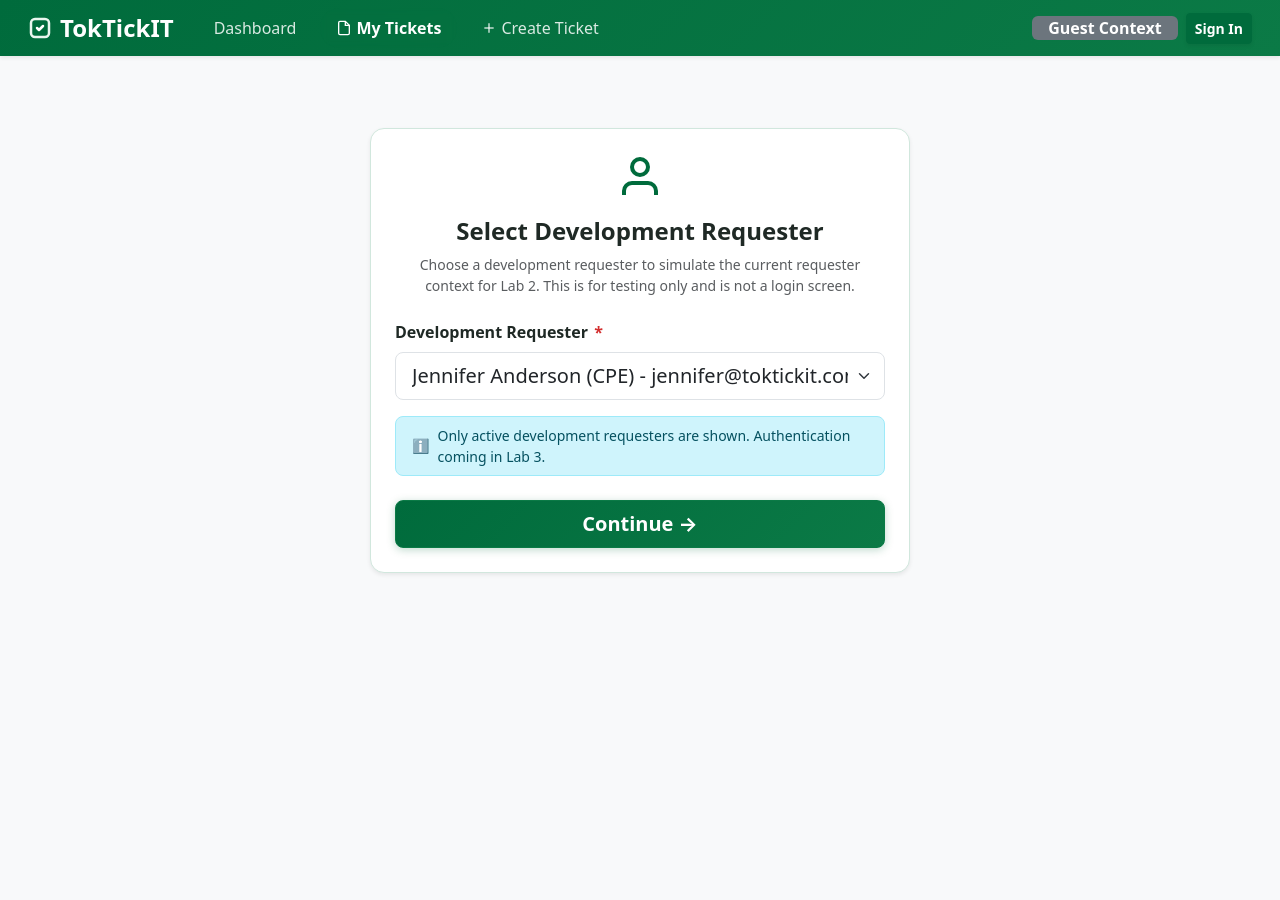
Lab 3 E2E Client Application Integration › should authenticate user and render role navigation header
Click the button "Sign In" at (1219, 28), box x1=1186 y1=12 x2=1252 y2=44
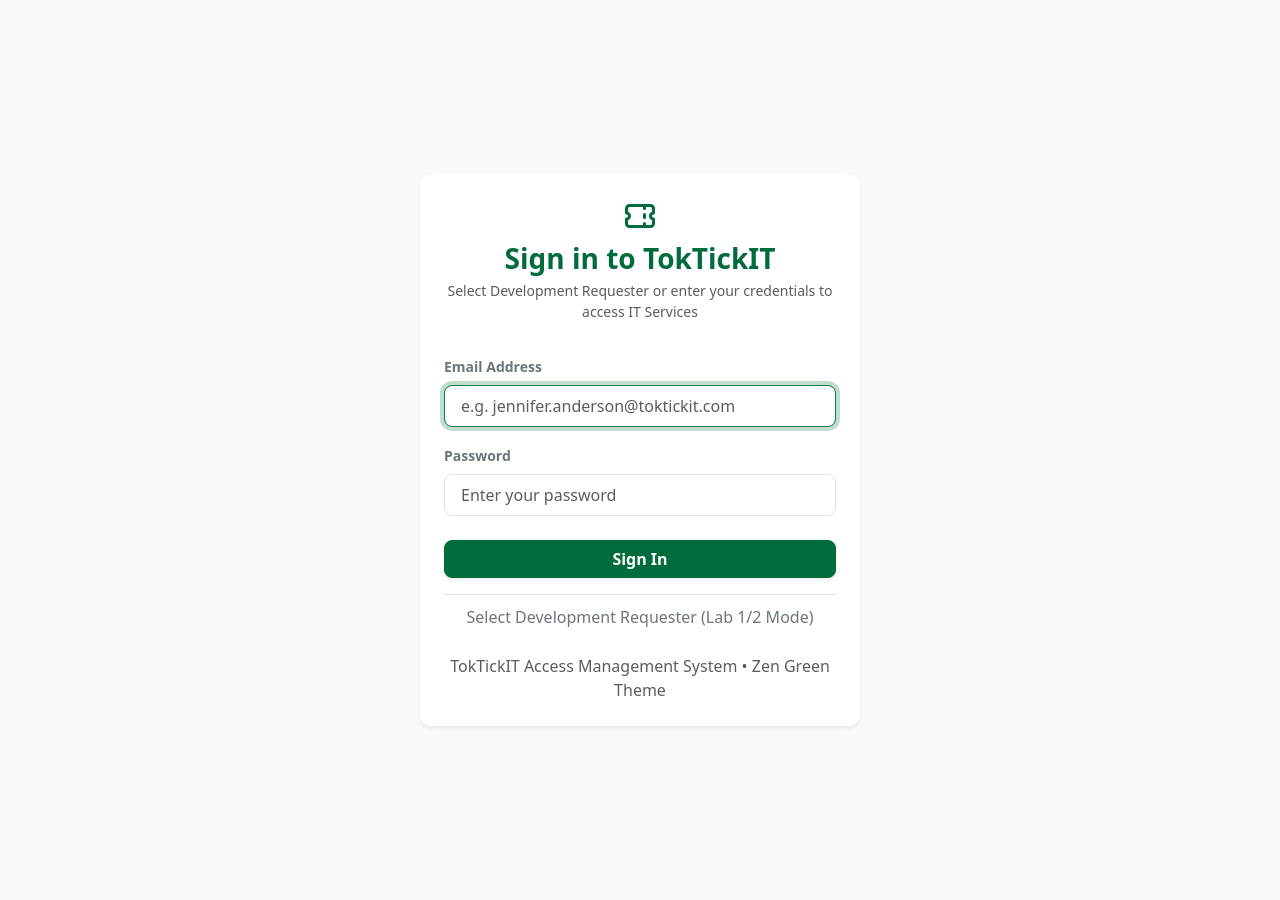
Type "jennifer.anderson@toktickit.com" into the field labelled "Email Address" at (640, 406), box x1=444 y1=385 x2=836 y2=427
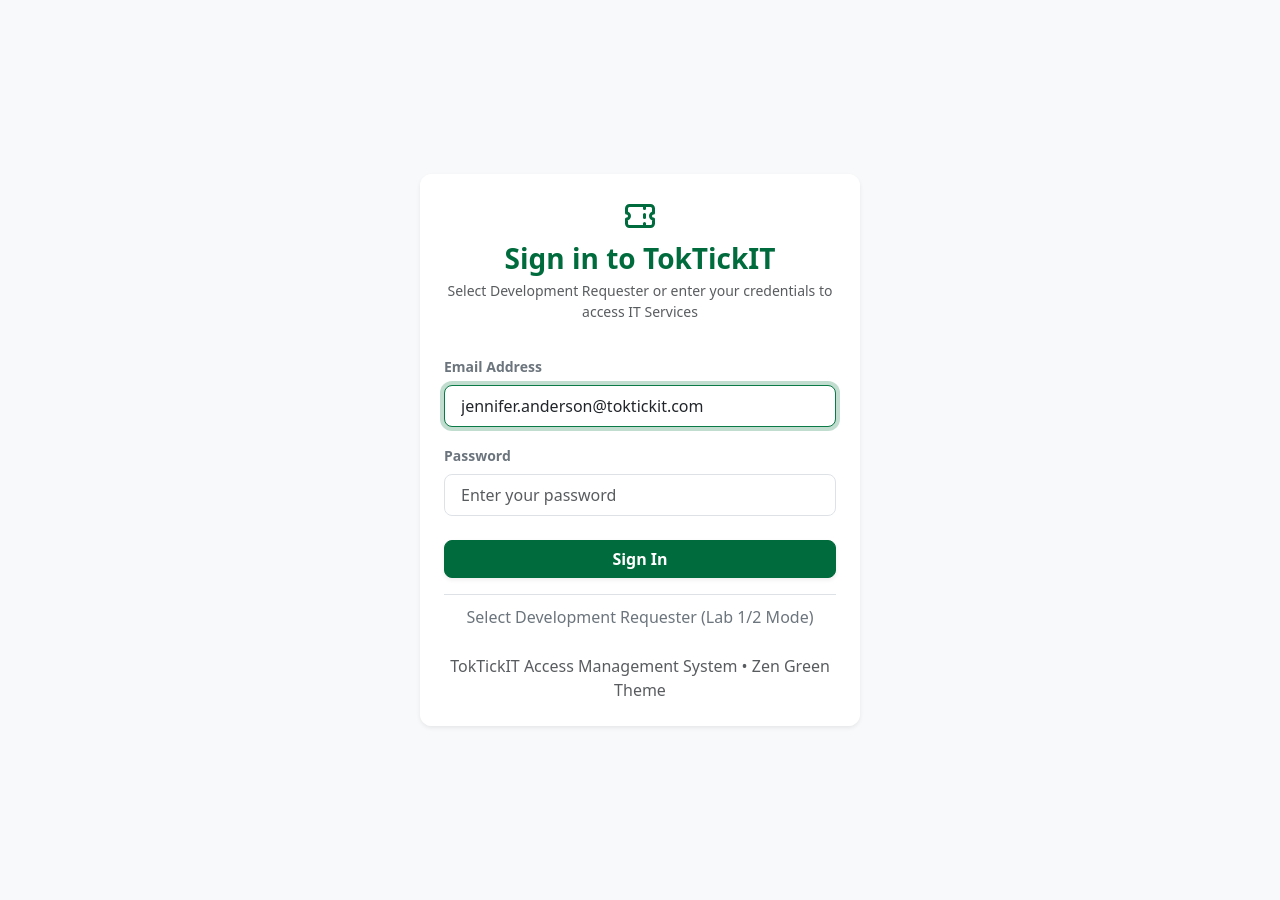
Type "InitialPassword123!" into the password field labelled "Password" at (640, 495), box x1=444 y1=474 x2=836 y2=516
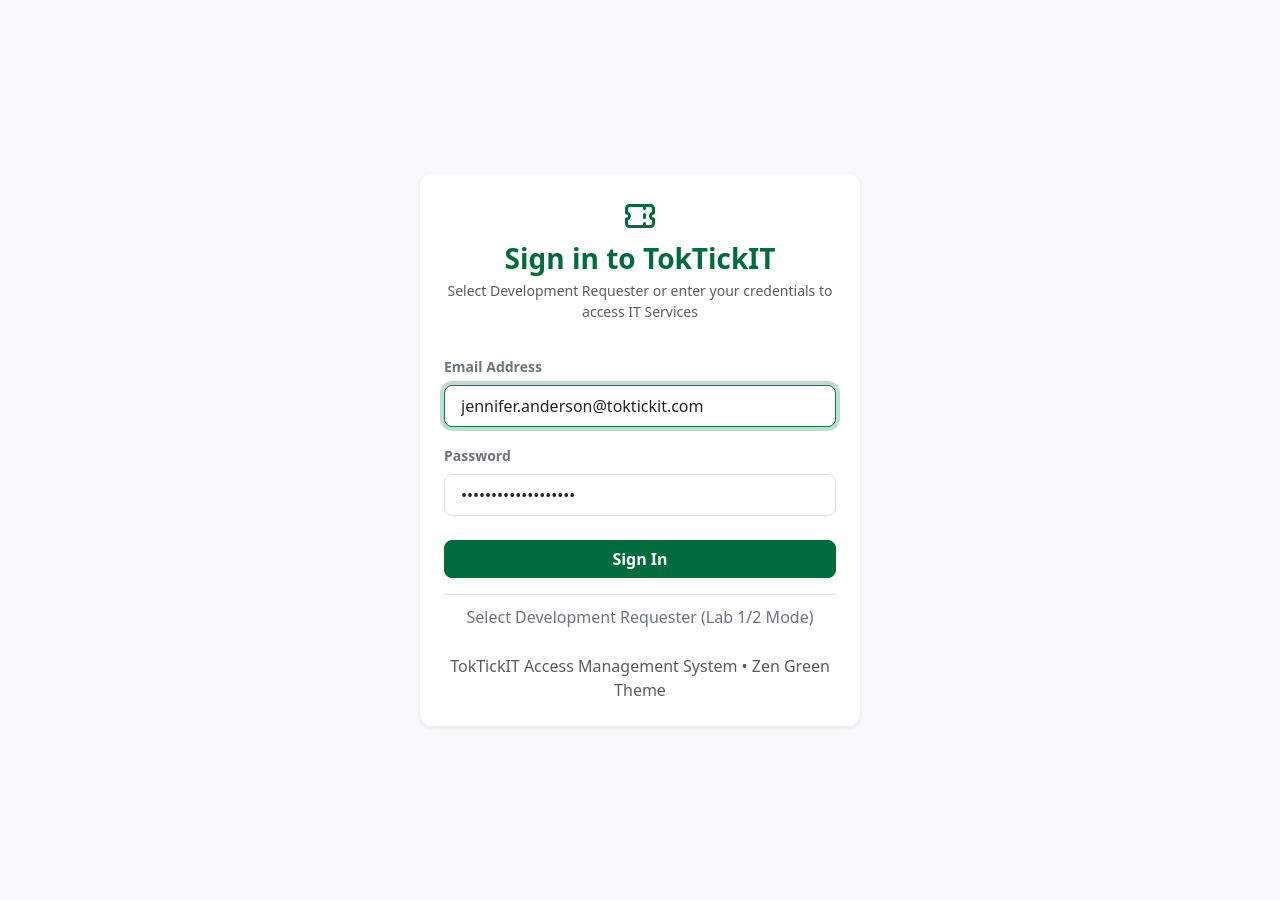
Click the button "Sign In" at (640, 559), box x1=444 y1=540 x2=836 y2=578
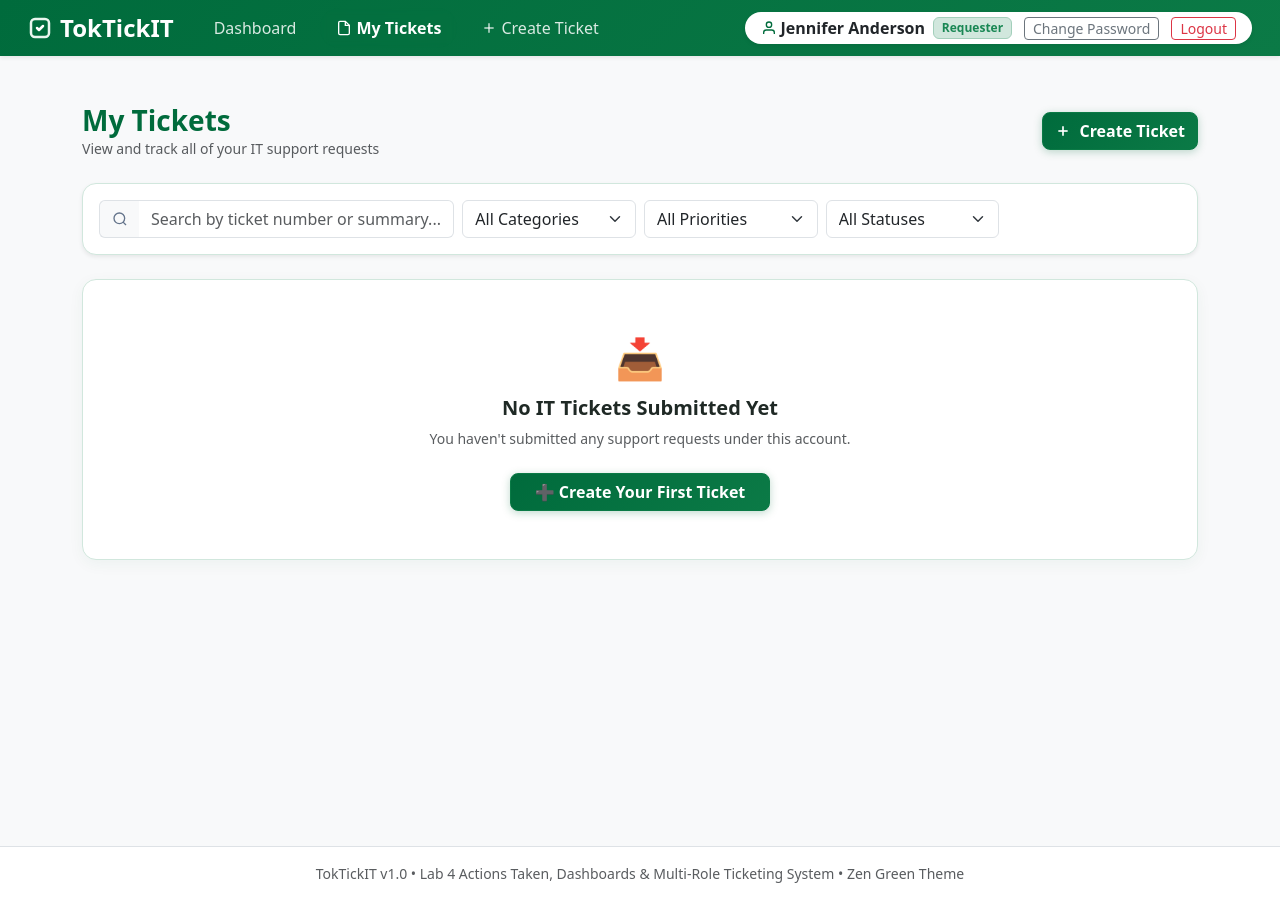
Check: the text "Requester" is shown, box x1=933 y1=17 x2=1012 y2=39
Check: the text "Jennifer Anderson" is shown, box x1=780 y1=16 x2=925 y2=40
